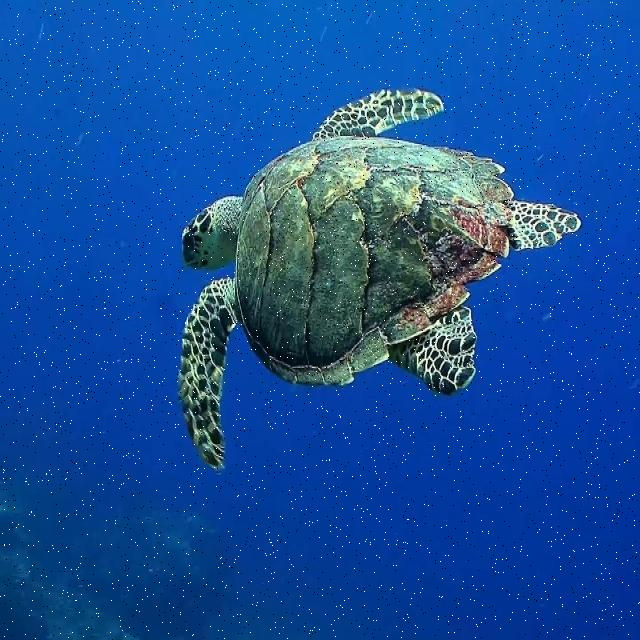reefs: (179, 87, 582, 469)
